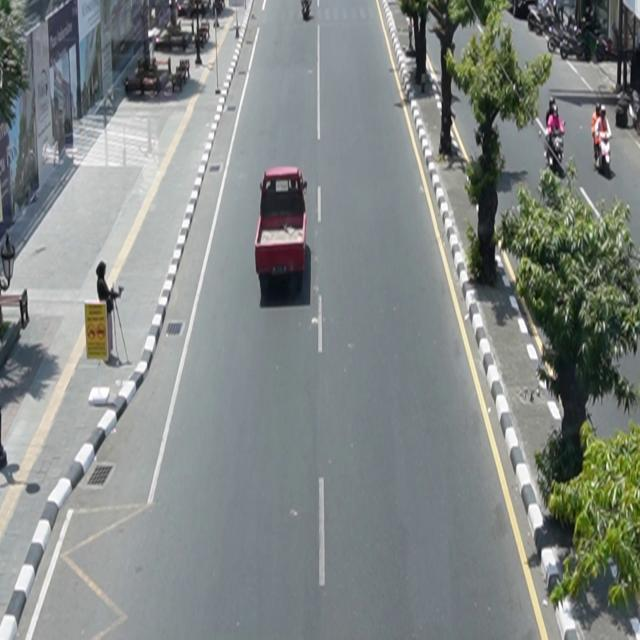car: (255, 166, 309, 285)
